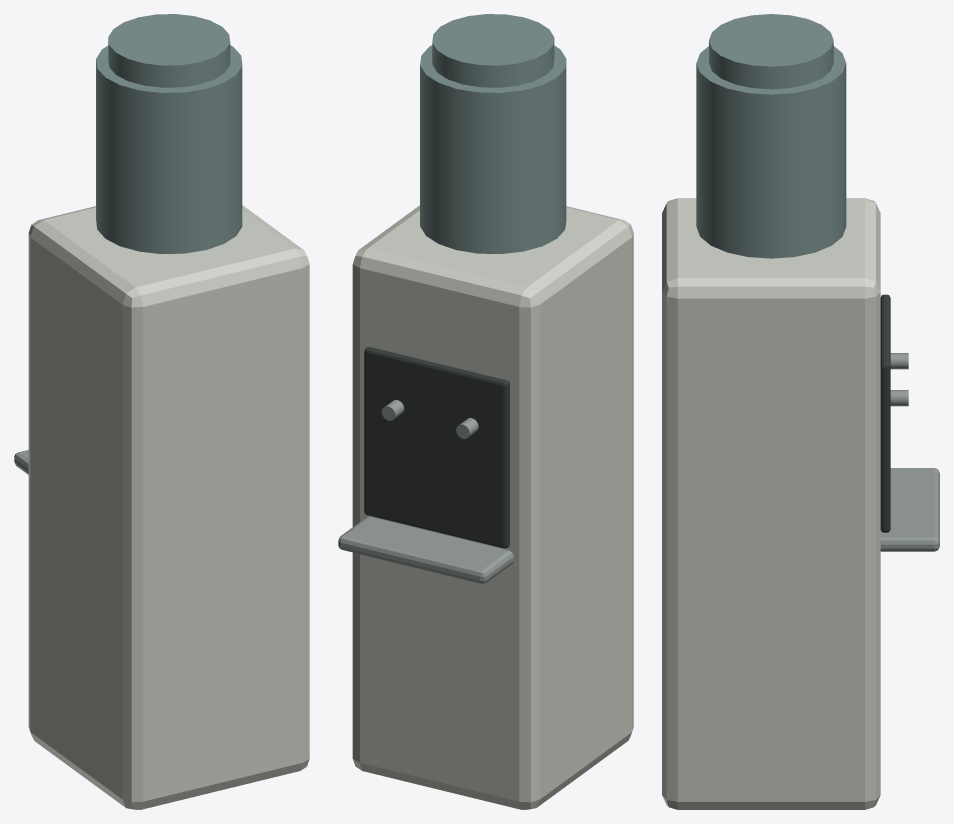
File: water_dispenser.glb
3 views of the same model, side by side, from view 1: azimuth 30°, elevation 25°; view 2: azimuth 150°, elevation 25°; view 3: azimuth 270°, elevation 25° (orthographic).
Parts seen in each view (by area): view 1: KitIvory, KitFabric; view 2: KitIvory, KitFabric, KitDark, KitSteel; view 3: KitIvory, KitFabric, KitSteel, KitDark.
Boxes of the visible parts, box(x1,y1,x2,y2) form: KitIvory: box(28, 205, 309, 809); KitFabric: box(96, 14, 242, 253); KitIvory: box(352, 205, 633, 809); KitFabric: box(420, 14, 566, 253); KitDark: box(364, 347, 509, 548); KitSteel: box(338, 400, 513, 583); KitIvory: box(662, 198, 880, 809); KitFabric: box(696, 14, 846, 258); KitSteel: box(880, 353, 939, 551); KitDark: box(880, 294, 890, 532).
Bounding box in the file's own units: 0.35 × 1.29 × 0.445.
